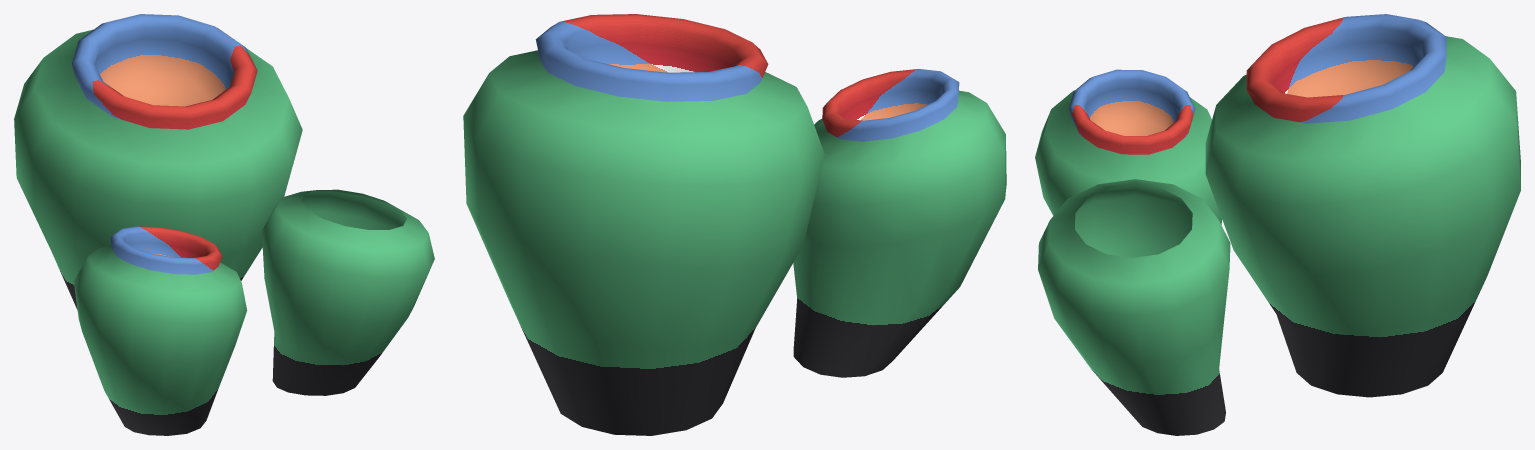
File: D_CoralReef.149.glb
3 views of the same model, side by side, from view 1: azimuth 30°, elevation 25°; view 2: azimuth 150°, elevation 25°; view 3: azimuth 270°, elevation 25° (orthographic). The views are drawn at different scales.
Parts seen in each view (by area): view 1: D_CoralReef.149; view 2: D_CoralReef.149; view 3: D_CoralReef.149.
Boxes of the visible parts, box(x1,y1,x2,y2) form: D_CoralReef.149: box(14, 14, 434, 435); D_CoralReef.149: box(463, 14, 1006, 435); D_CoralReef.149: box(1035, 14, 1520, 435).
Size of the model in its own units: 0.4927 by 0.4163 by 0.5493.
Materials: 1 (1 with a texture image).
